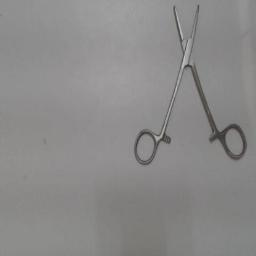Mayo Needle Holder: (130, 2, 250, 168)
